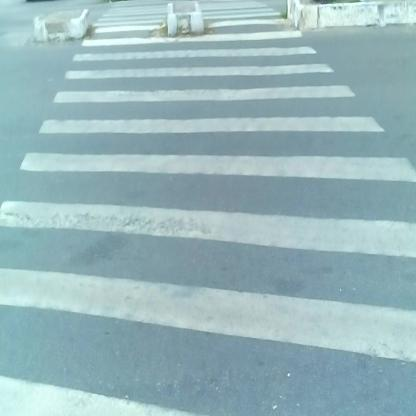crosswalk: (32, 55, 408, 416)
